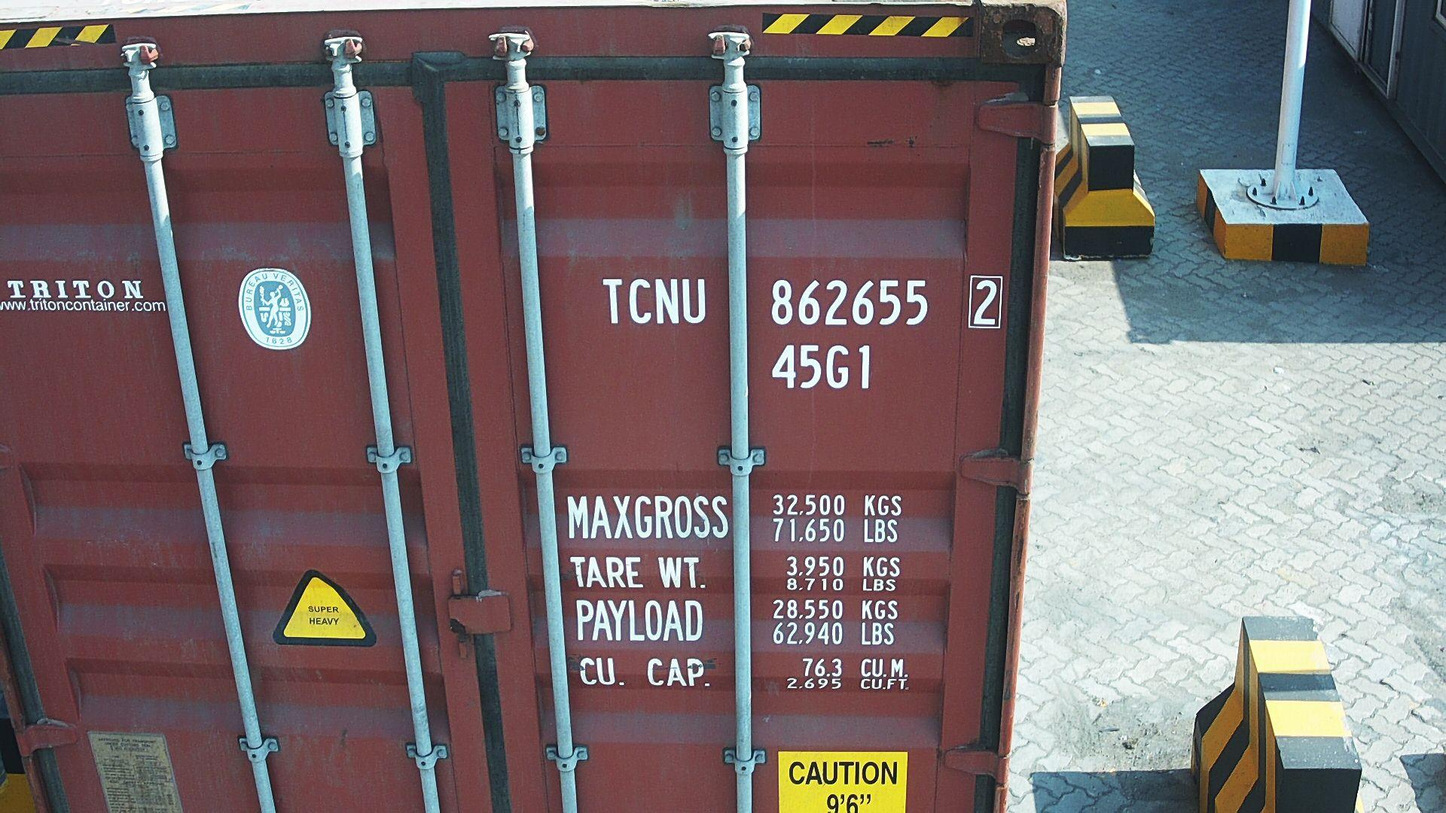container-numbers: (597, 273, 1010, 333), (768, 341, 877, 393)
